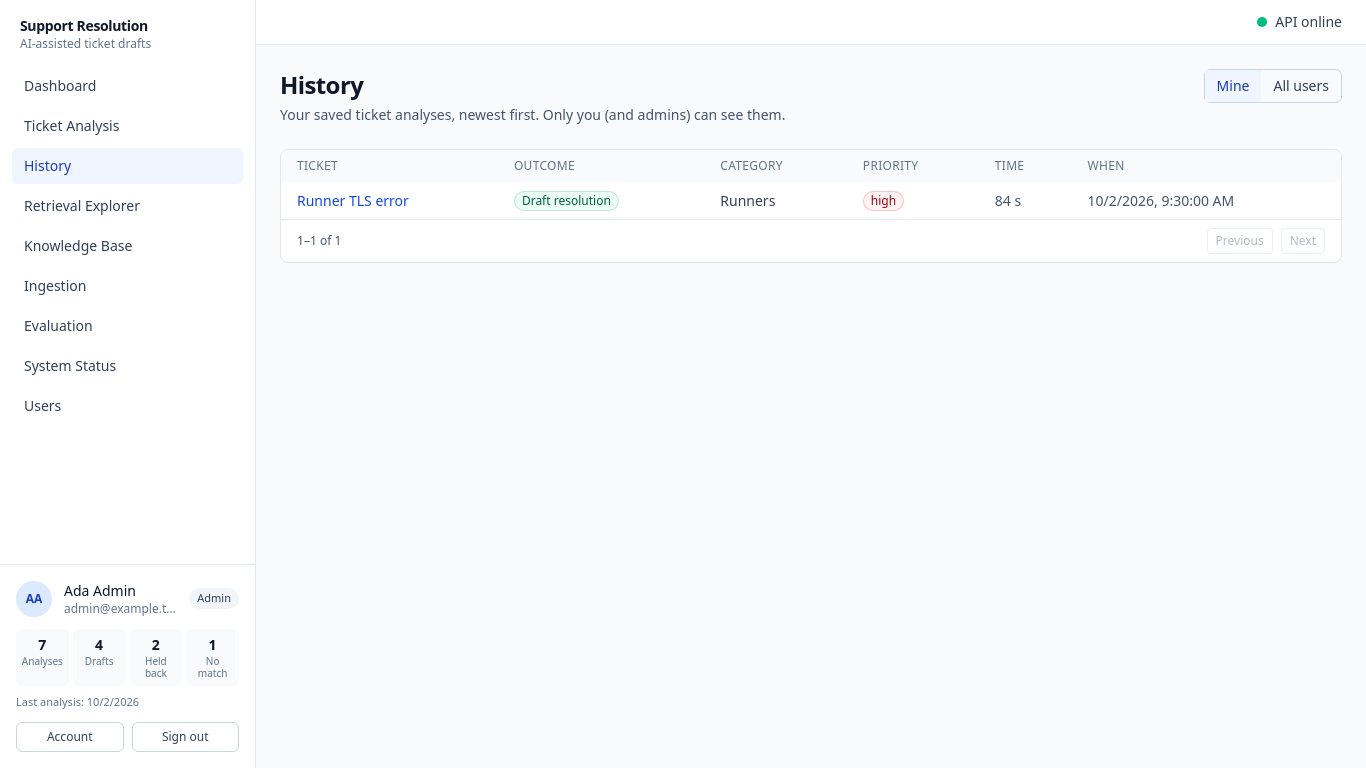
Test: History › lists saved analyses and opens one
Click the link "Runner TLS error". click: (353, 200)
box: [297,190,409,210]
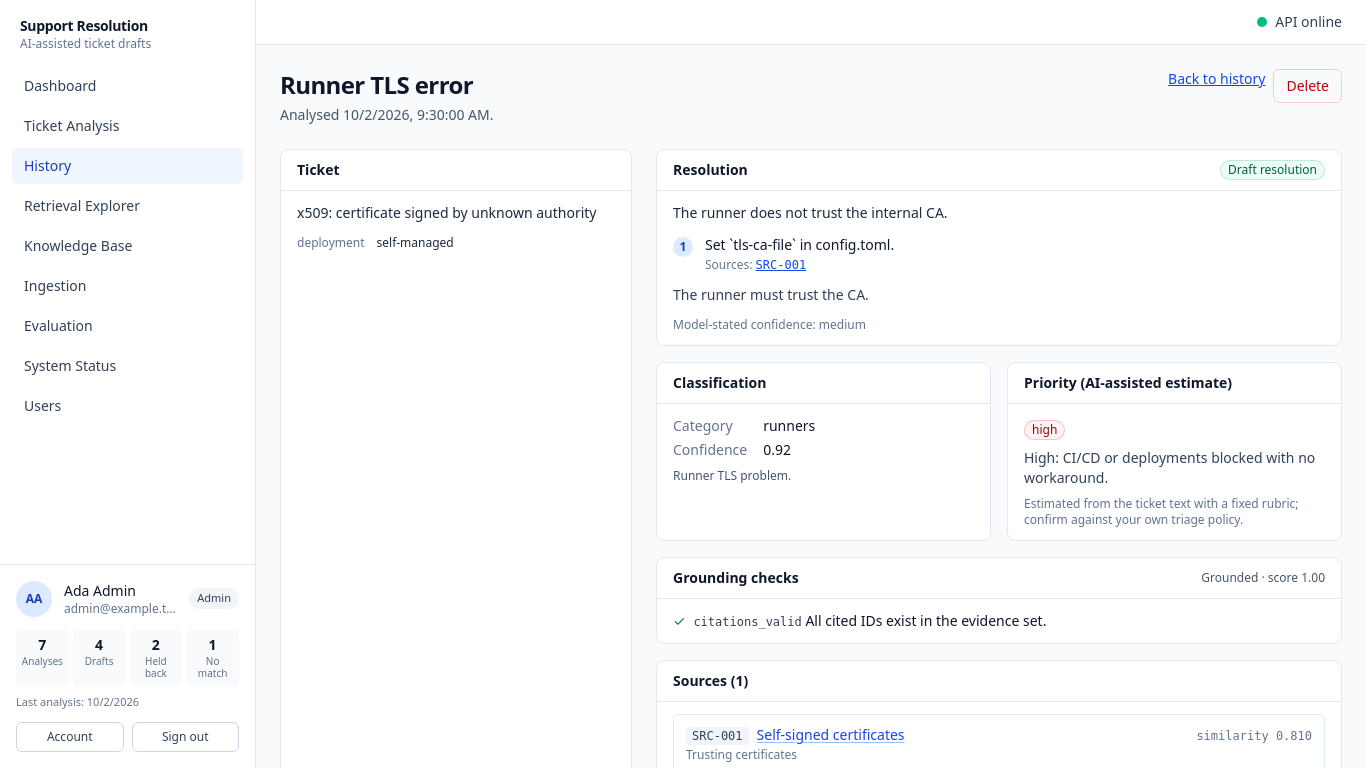
Check: the heading "Runner TLS error" is shown, box [280,69,494,101]
Check: the text "x509: certificate signed by unknown authority" is shown, box [297,203,615,223]
Check: the text "Set `tls-ca-file` in config.toml." is shown, box [705,235,894,255]
